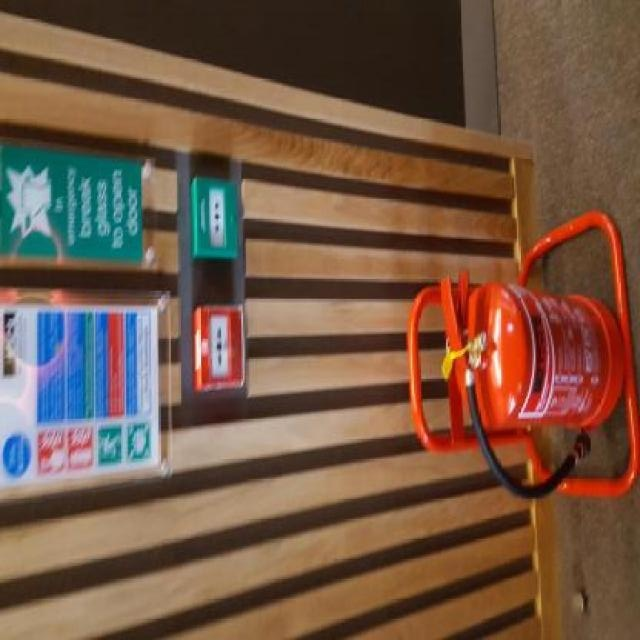fire extinguisher: (438, 276, 622, 499)
